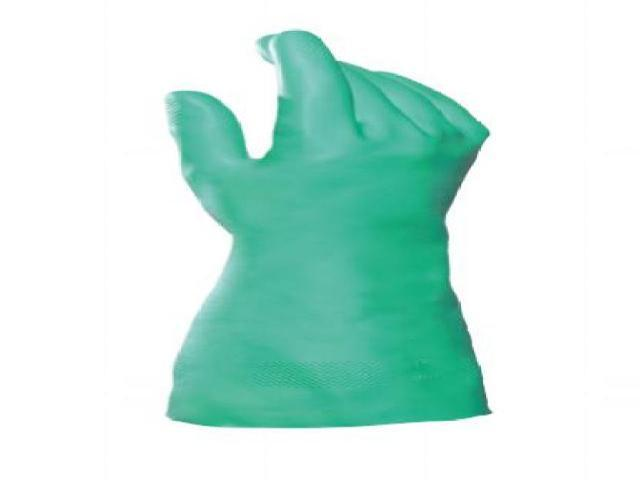Hand-in-Glove: (131, 28, 507, 431)
